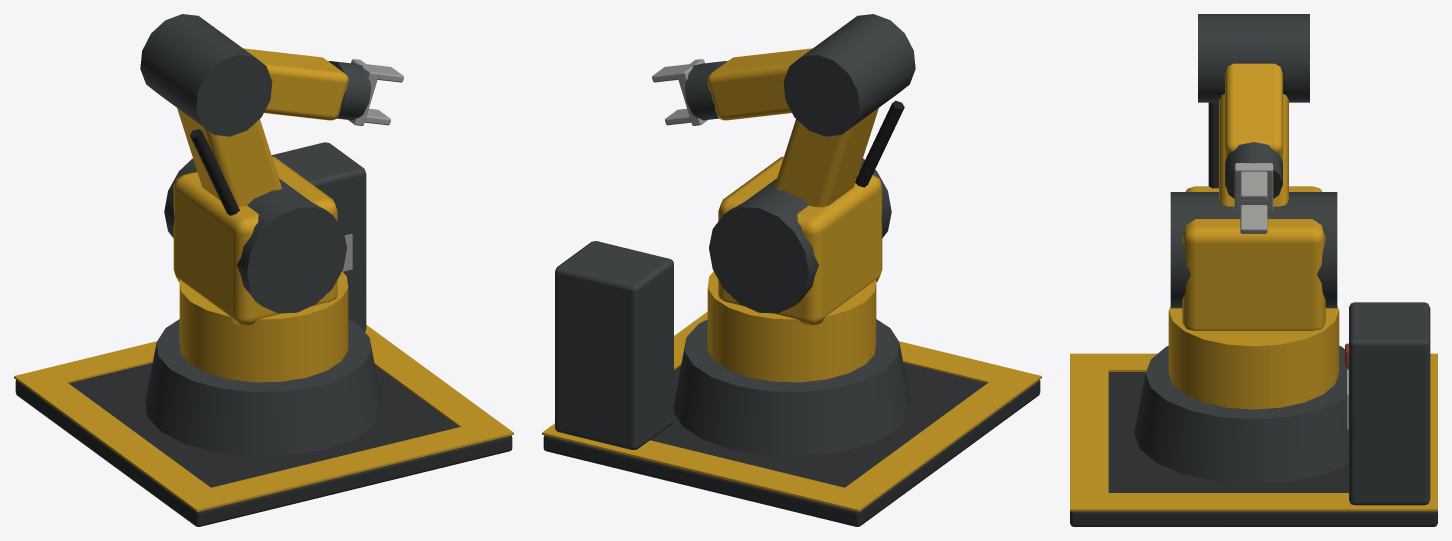
Rendered from robot-arm.glb.
3 views of the same model, side by side, from view 1: azimuth 30°, elevation 25°; view 2: azimuth 150°, elevation 25°; view 3: azimuth 270°, elevation 25° (orthographic).
Parts seen in each view (by area): view 1: paint-graphite, paint-yellow, steel-dark, hazard, steel, rubber; view 2: paint-graphite, paint-yellow, steel-dark, hazard, rubber, steel; view 3: paint-graphite, paint-yellow, steel-dark, hazard, steel, rubber.
Boxes of the visible parts, x1,y1,x2,y2 form: paint-graphite: [140, 14, 382, 456]; paint-yellow: [173, 48, 348, 382]; steel-dark: [15, 363, 512, 526]; hazard: [14, 325, 513, 511]; steel: [342, 59, 403, 271]; rubber: [190, 129, 239, 215]; paint-graphite: [555, 14, 915, 456]; paint-yellow: [707, 48, 882, 382]; steel-dark: [543, 363, 1040, 526]; hazard: [542, 311, 1041, 511]; rubber: [855, 100, 904, 187]; steel: [652, 59, 707, 125]; paint-graphite: [1134, 14, 1430, 505]; paint-yellow: [1168, 63, 1339, 409]; steel-dark: [1070, 372, 1437, 526]; hazard: [1070, 353, 1437, 511]; steel: [1234, 163, 1348, 429]; rubber: [1208, 102, 1218, 188].
Size of the model in its own units: 1.9 by 2.3 by 1.9.
